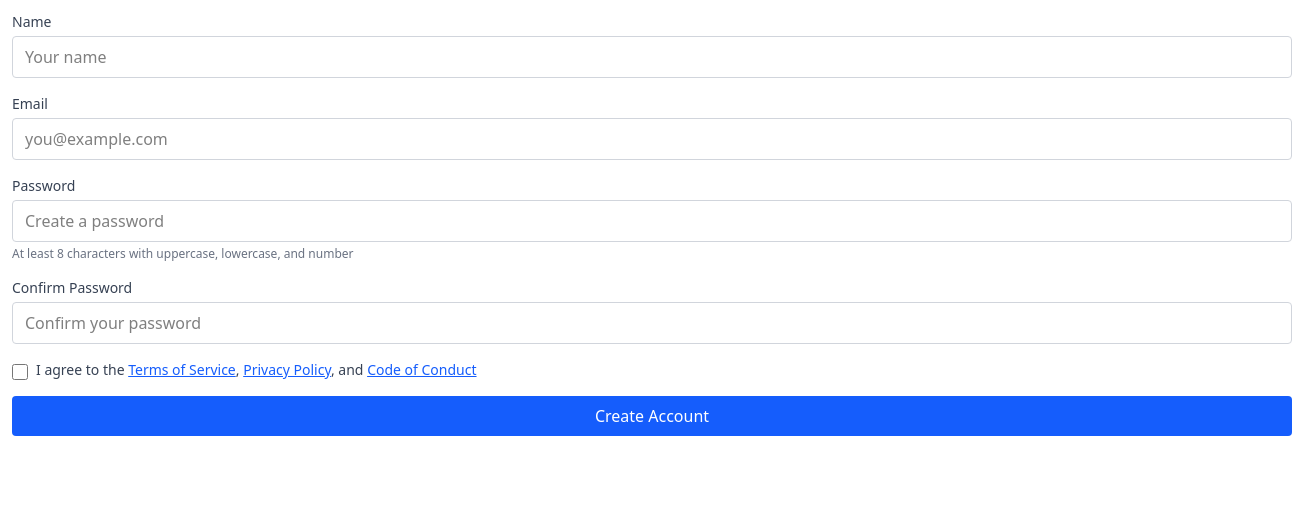
Test: RegisterForm › shows network error message for OpprsNetworkError
Type "Test User" into the field labelled "Name".
click(652, 57); type("Test User")  # box [12, 36, 1292, 78]
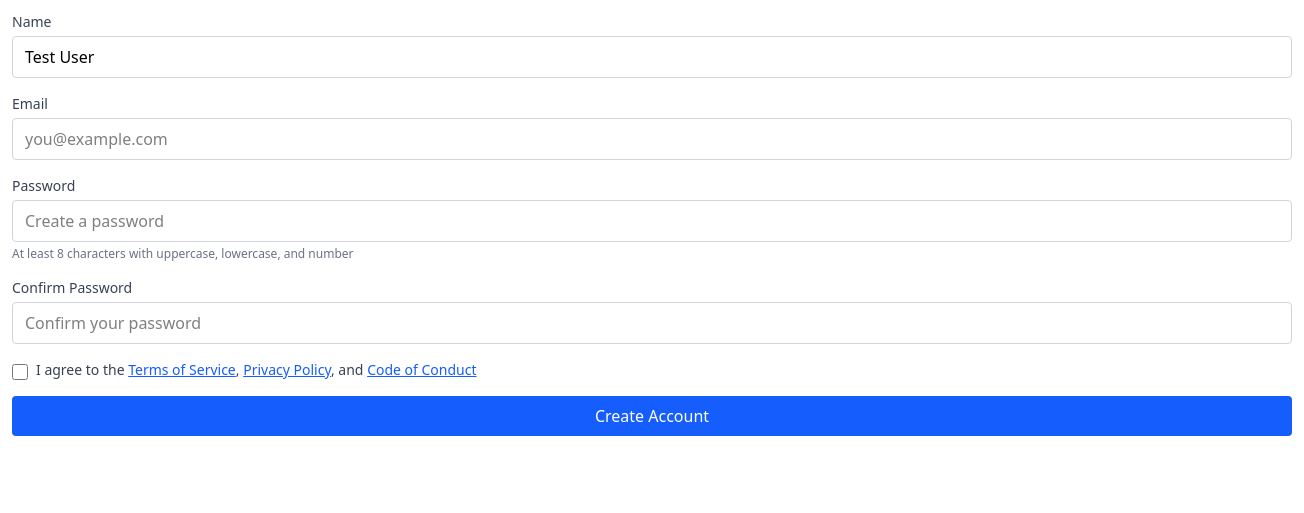
Type "test@example.com" into the field labelled "Email".
click(652, 139); type("test@example.com")  # box [12, 118, 1292, 160]
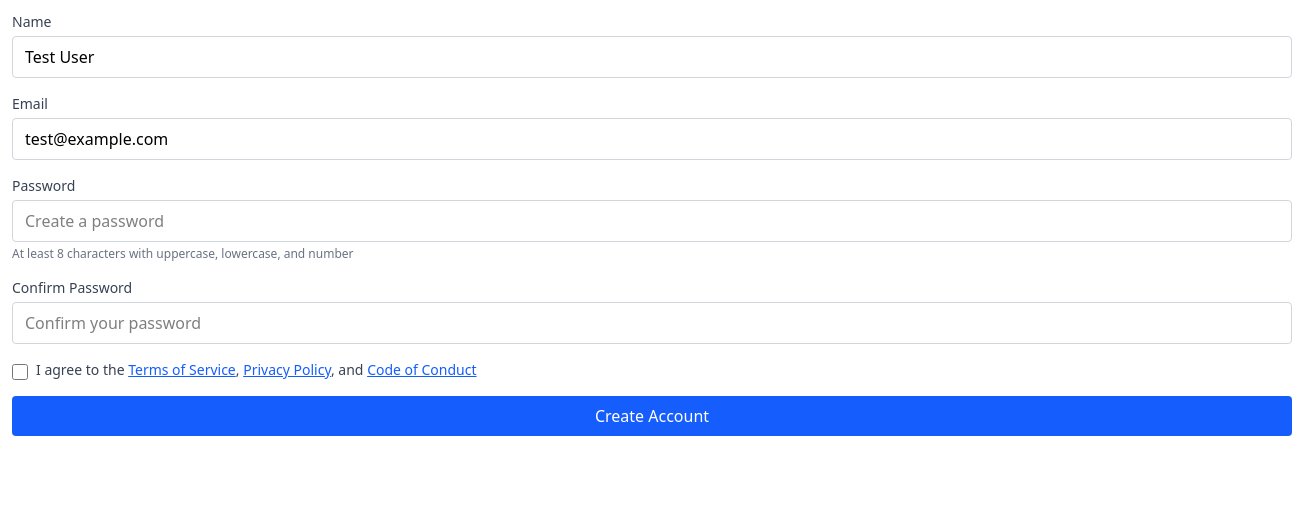
Type "Password123" into the password field labelled "Password".
click(652, 221); type("Password123")  # box [12, 200, 1292, 242]
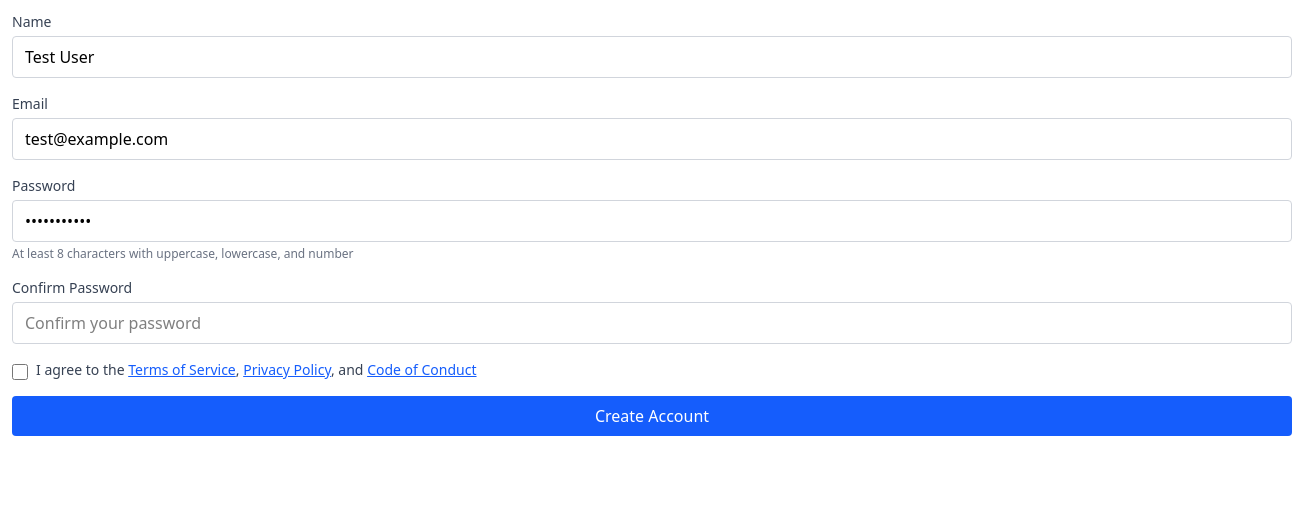
Type "Password123" into the password field labelled "Confirm Password".
click(652, 323); type("Password123")  # box [12, 302, 1292, 344]
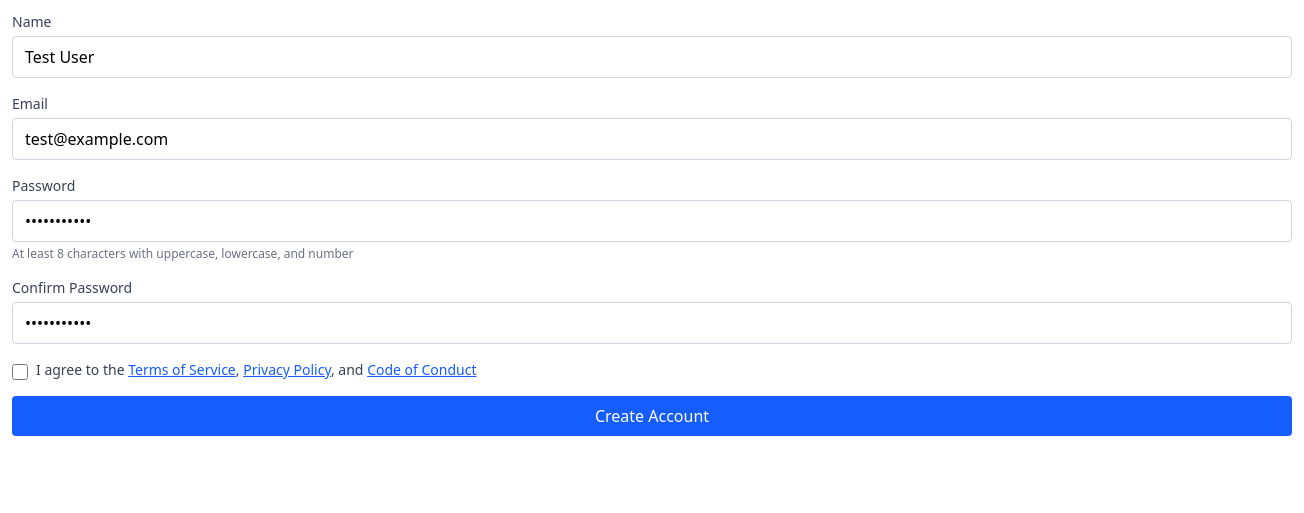
Click the checkbox.
click(20, 372)  # box [12, 364, 28, 380]
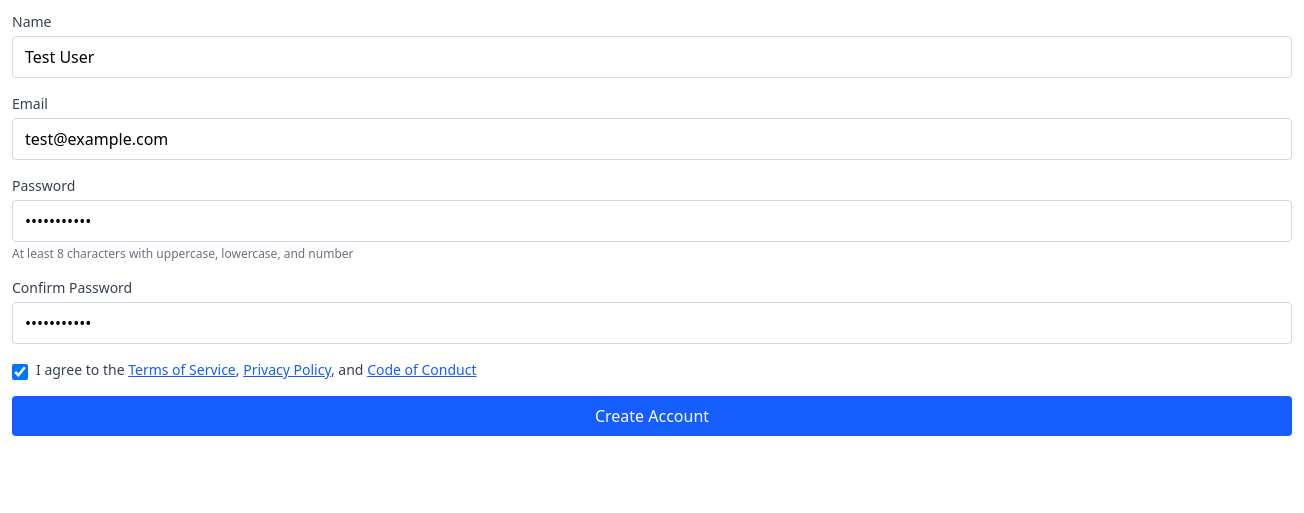
Click the button "Create Account".
click(652, 416)  # box [12, 396, 1292, 436]
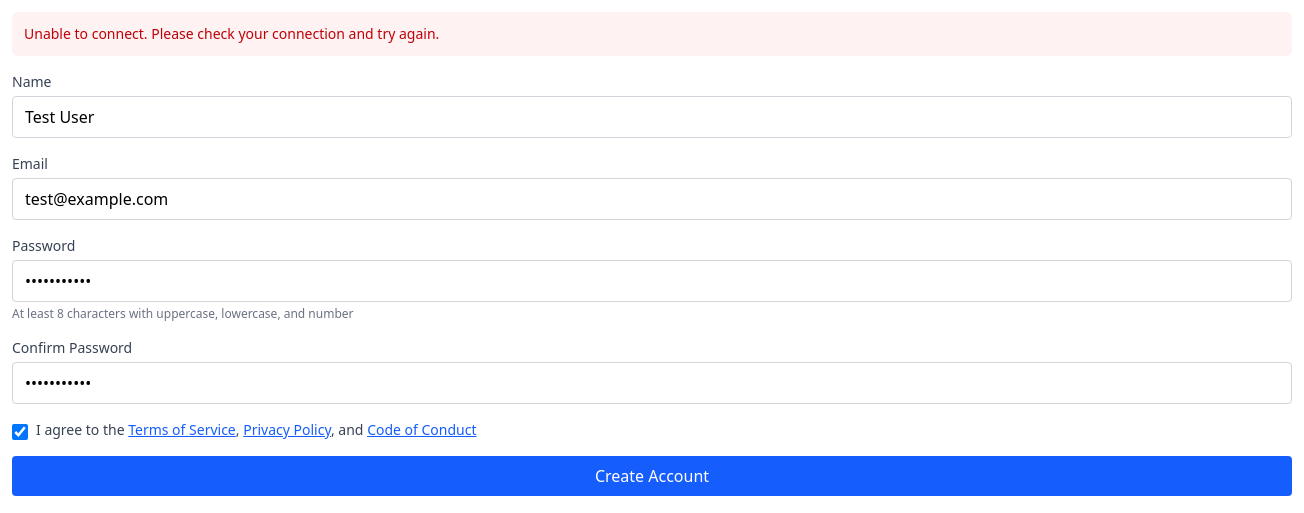
Expected: the text "Unable to connect. Please check your connection and try again." is shown, [12, 12, 1292, 56]
